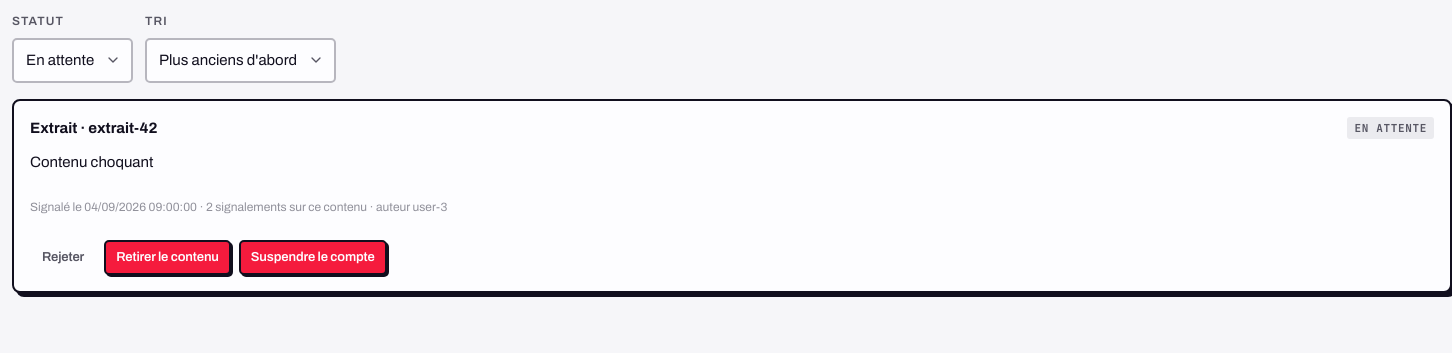
Test case: ModerationDashboard › envoie l'action REJETER puis recharge la file
This screenshot has width=1452, height=353.
Click the button "Rejeter" at (63, 257), box [30,240,96,275]
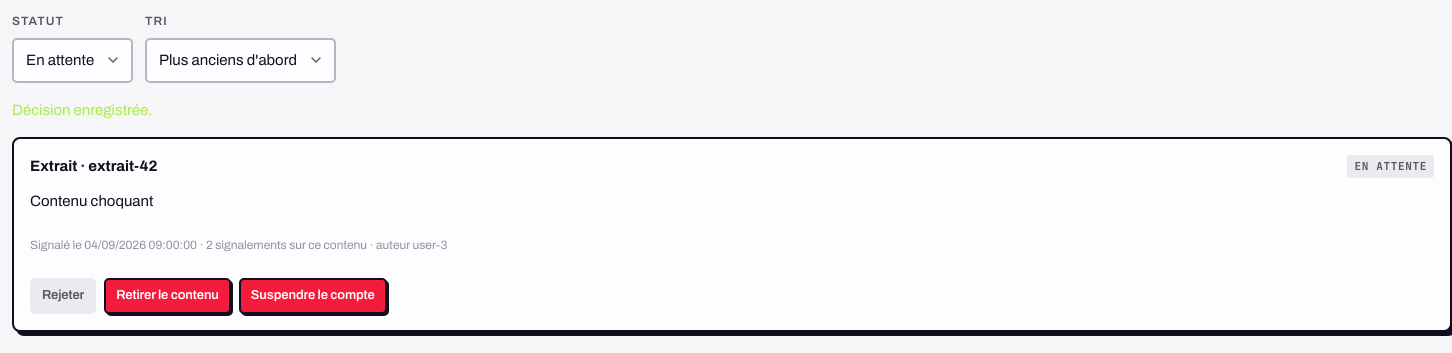
expect the message shows "Décision enregistrée": met, box [12,102,152,118]
